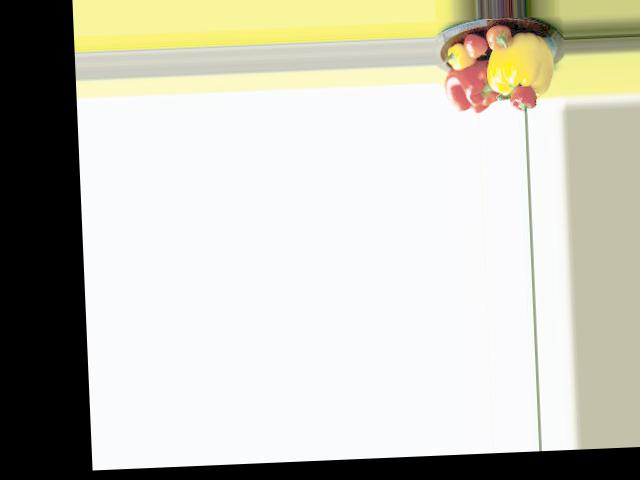bell_pepper: (444, 44, 472, 71)
